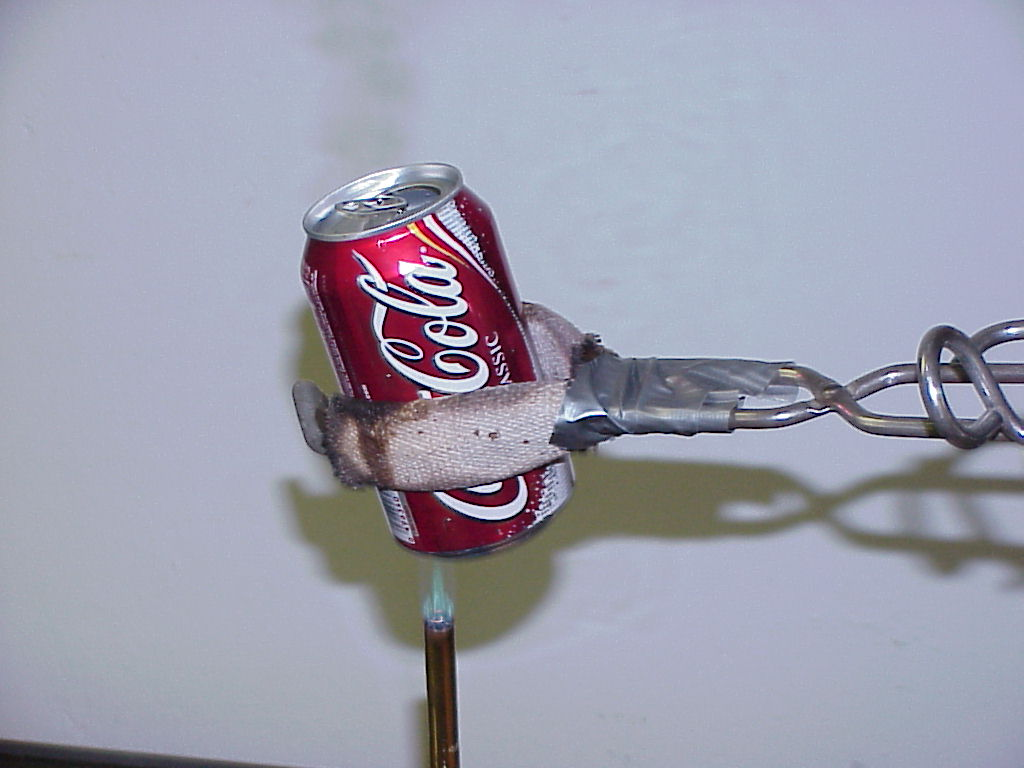can: (300, 162, 577, 559)
